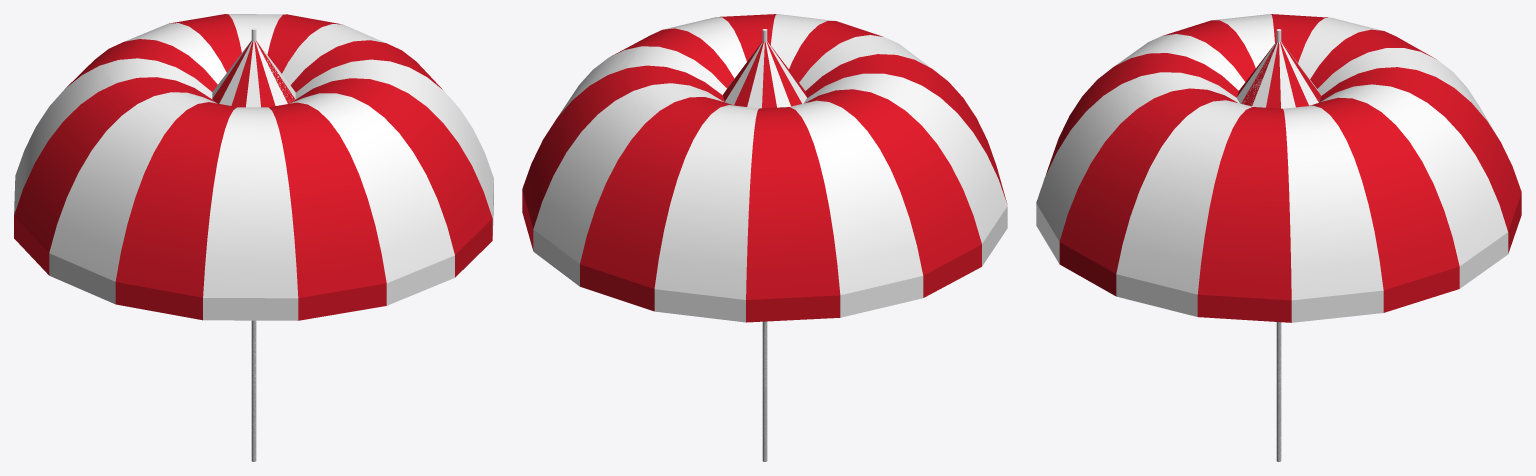
3 views of the same model, side by side, from view 1: azimuth 30°, elevation 25°; view 2: azimuth 150°, elevation 25°; view 3: azimuth 270°, elevation 25° (orthographic).
Visible parts, largest first — view 1: group_1 (×20), group_2; view 2: group_1 (×19), group_2; view 3: group_1 (×20), group_2.
Part boxes in pixels (bbox=[...]): group_1 (×20): bbox=[14, 14, 493, 320]; group_2: bbox=[251, 320, 256, 461]; group_1 (×19): bbox=[522, 14, 1007, 322]; group_2: bbox=[762, 321, 767, 461]; group_1 (×20): bbox=[1036, 14, 1521, 322]; group_2: bbox=[1276, 322, 1281, 461].
Bounding box in the file's own units: 198 × 198 × 194.
